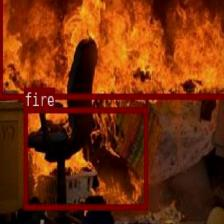fire: (0, 0, 224, 97), (23, 106, 146, 208)
